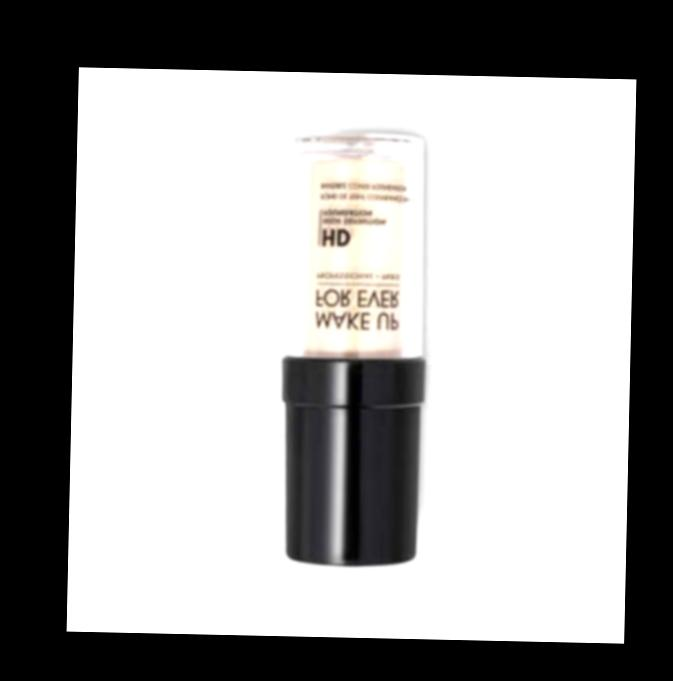cosmetic: (272, 130, 433, 567)
